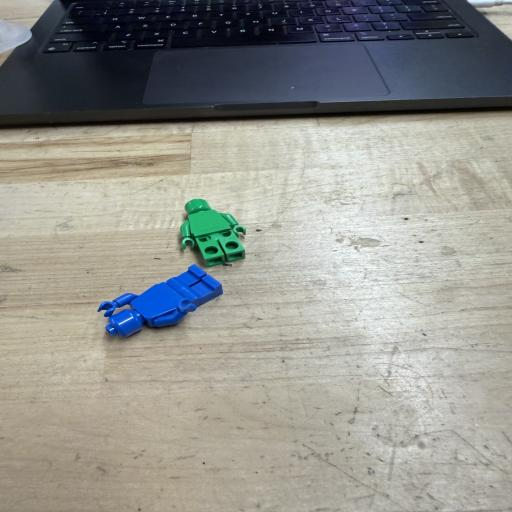blue-minifig: (98, 264, 223, 337), (130, 282, 184, 326), (138, 310, 160, 328)
green-minifig: (180, 199, 246, 267)
